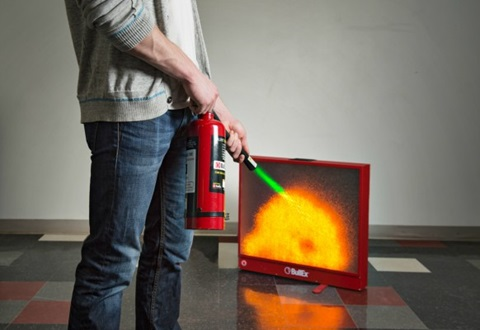fire: (186, 98, 226, 230)
